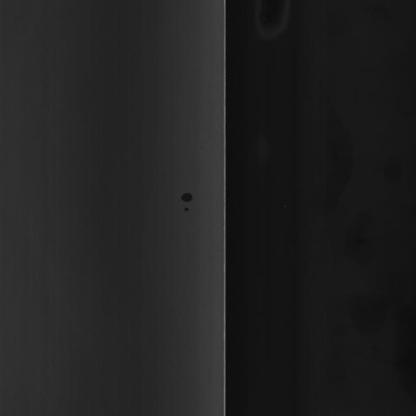oil_spot: (178, 172, 201, 225)
